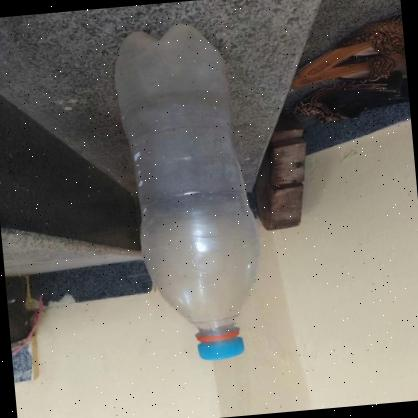bottle: (98, 8, 276, 377)
cap: (186, 328, 253, 365)
